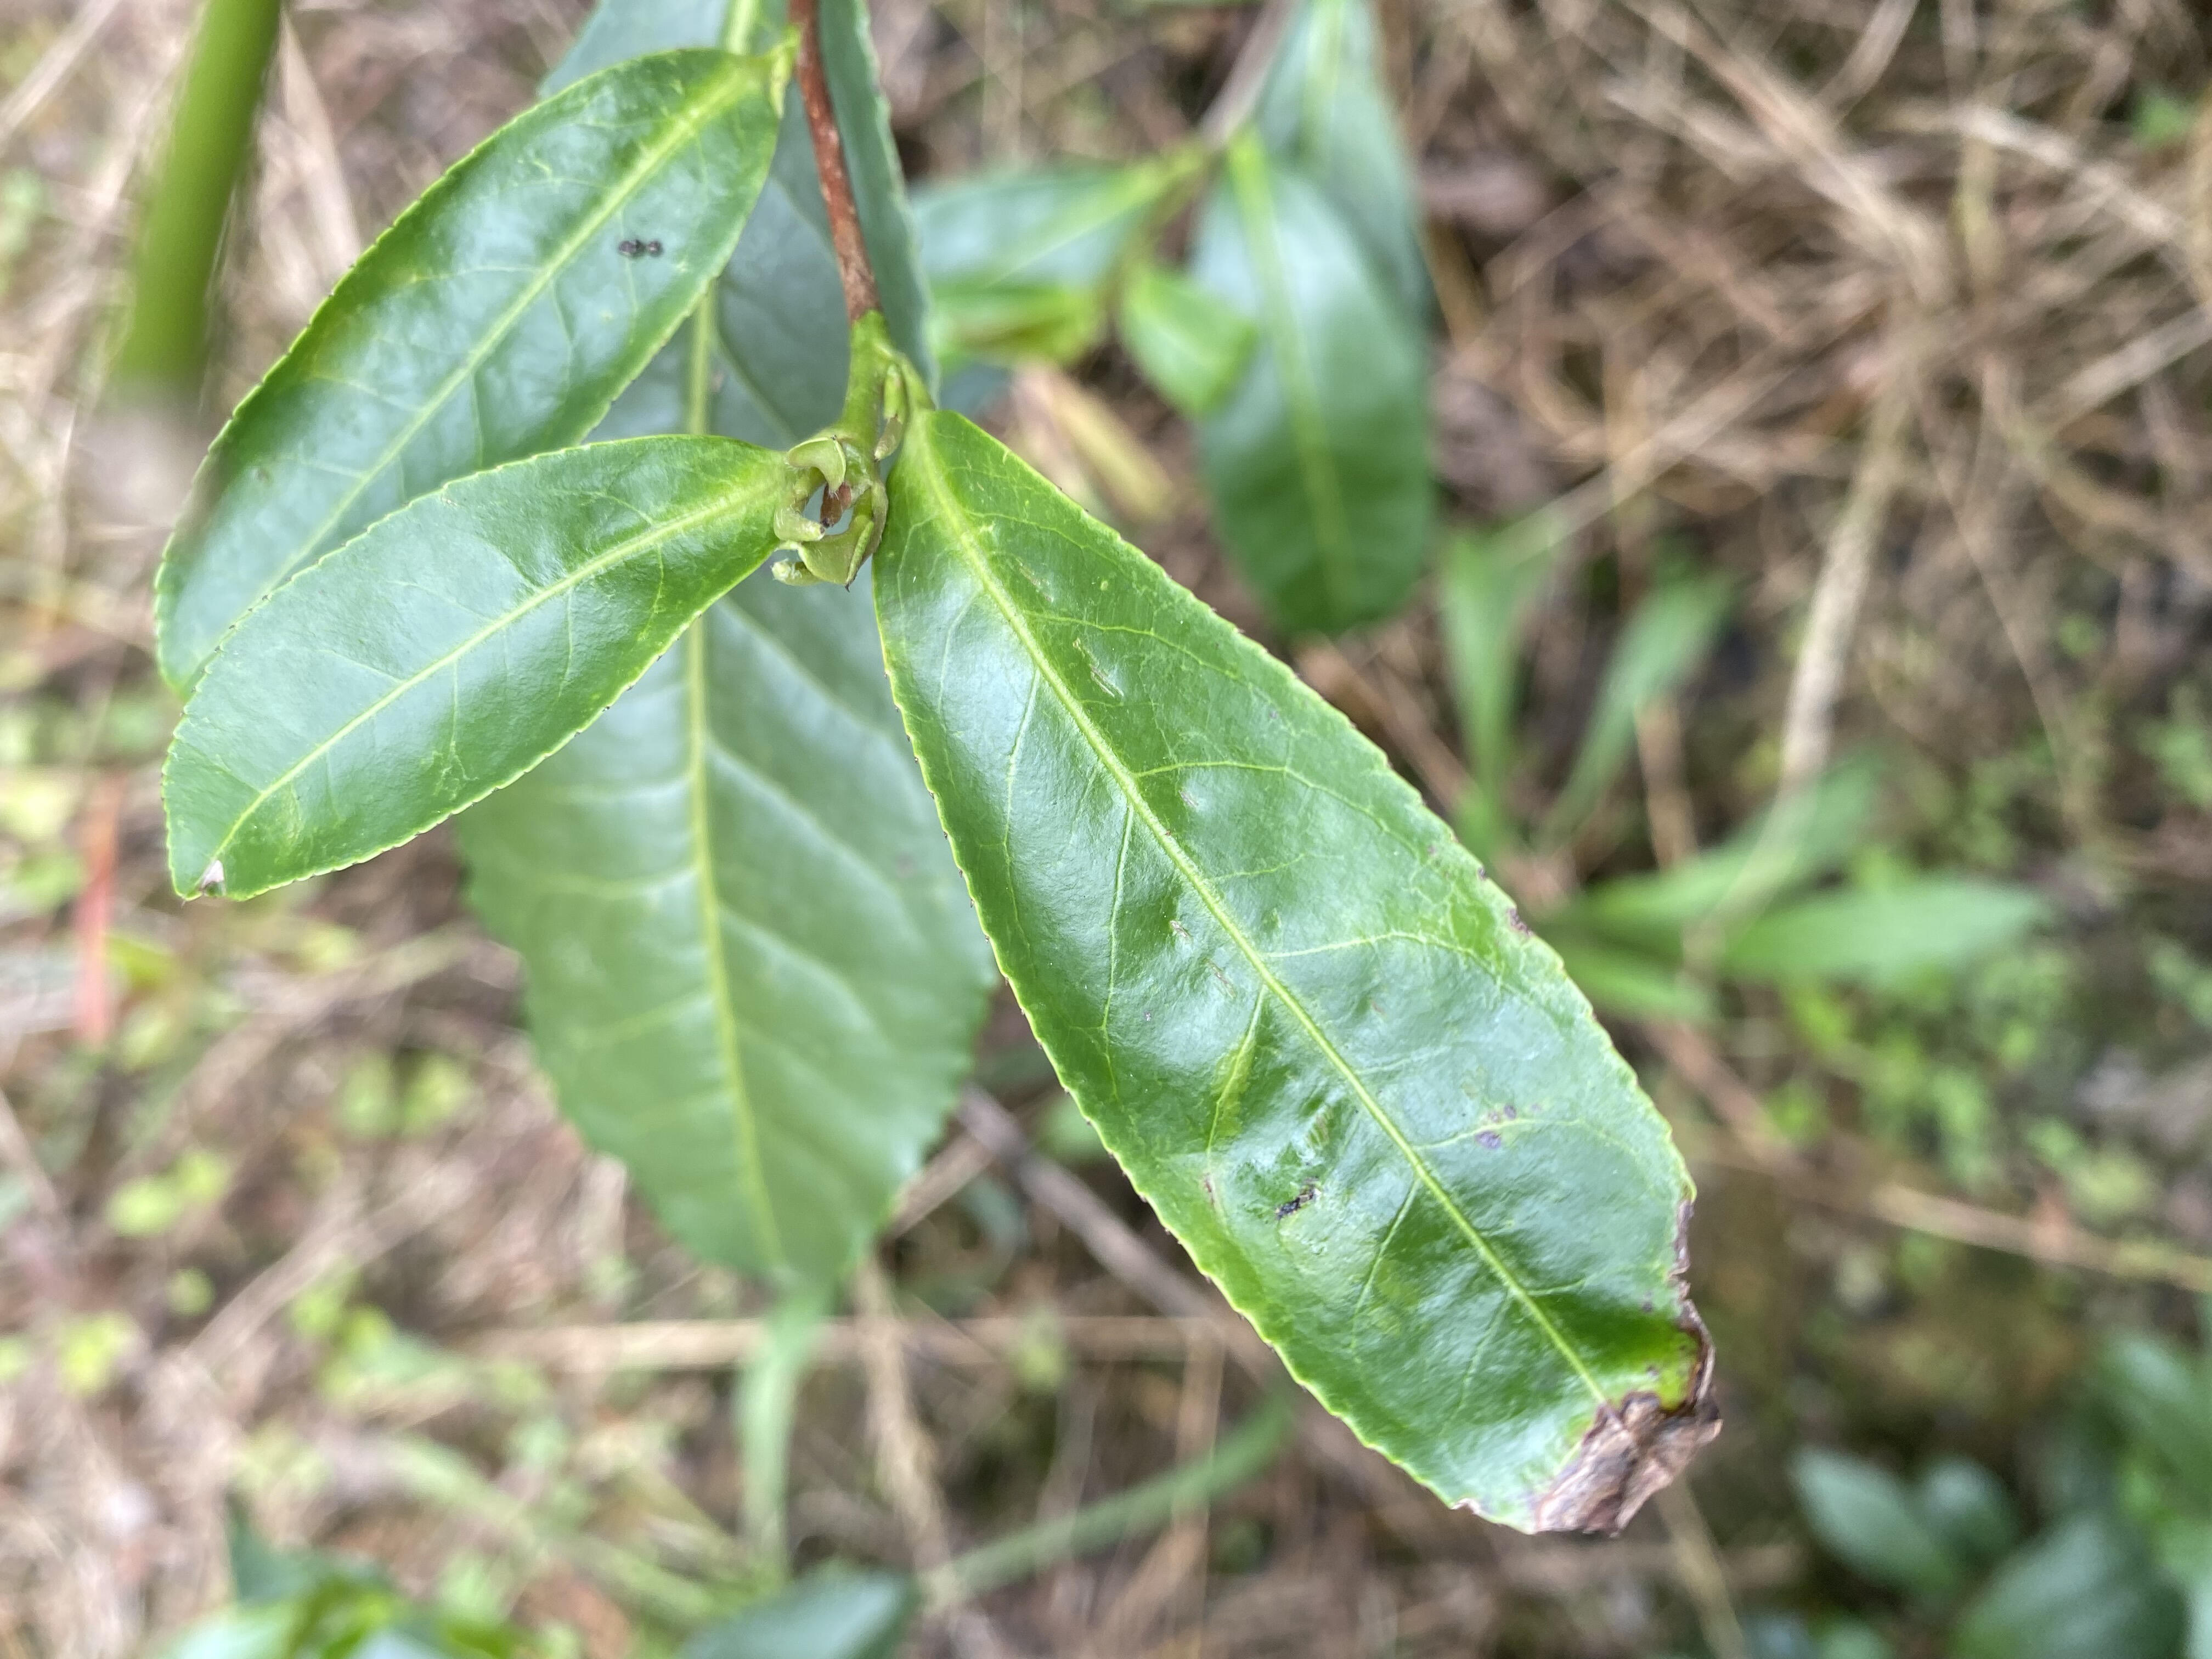tanju_high: (881, 404, 1724, 1546)
tanju_low: (157, 434, 789, 904)
